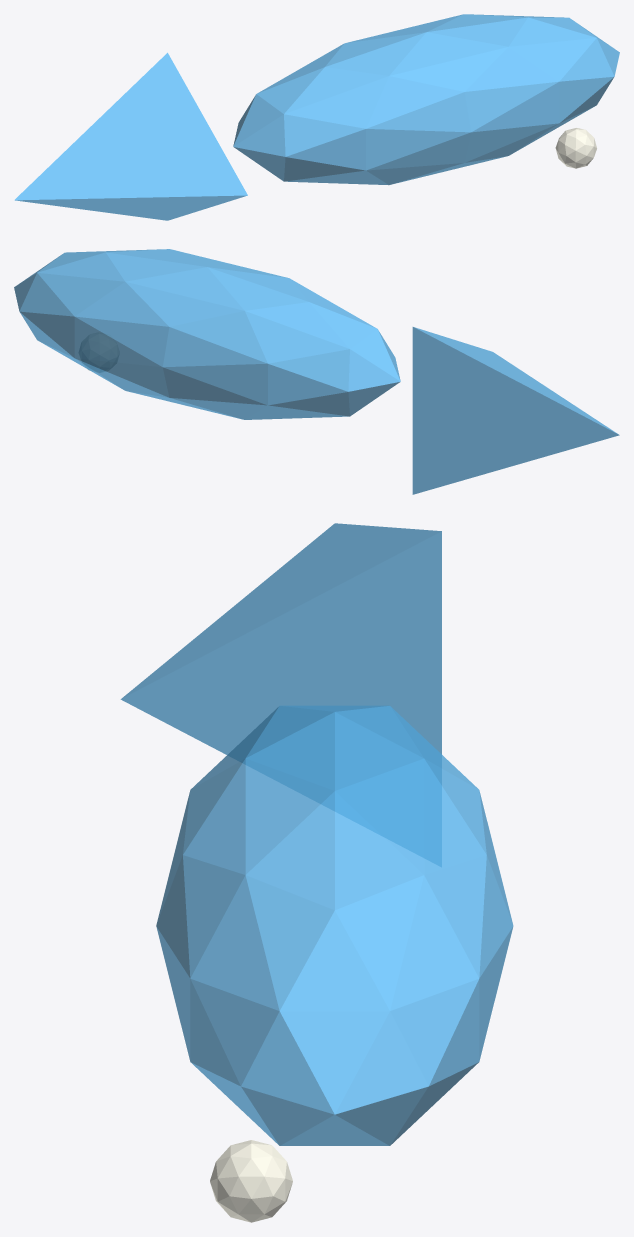
The model's file is small_fish_blue.glb.
The picture shows the model from 3 angles, top to bottom: view 1: azimuth 30°, elevation 25°; view 2: azimuth 150°, elevation 25°; view 3: azimuth 270°, elevation 25°; orthographic projection. The views are drawn at different scales.
Parts seen in each view (by area): view 1: fish_body, tail, eye; view 2: fish_body, tail; view 3: fish_body, tail, eye.
Part boxes in pixels (bbox=[...]): fish_body: bbox=[233, 14, 619, 185]; tail: bbox=[14, 52, 247, 220]; eye: bbox=[555, 128, 596, 168]; fish_body: bbox=[14, 249, 400, 419]; tail: bbox=[412, 327, 619, 494]; fish_body: bbox=[156, 705, 513, 1145]; tail: bbox=[120, 523, 441, 754]; eye: bbox=[210, 1140, 292, 1222].
Size of the model in its own units: 1.18 by 0.3118 by 0.33.
